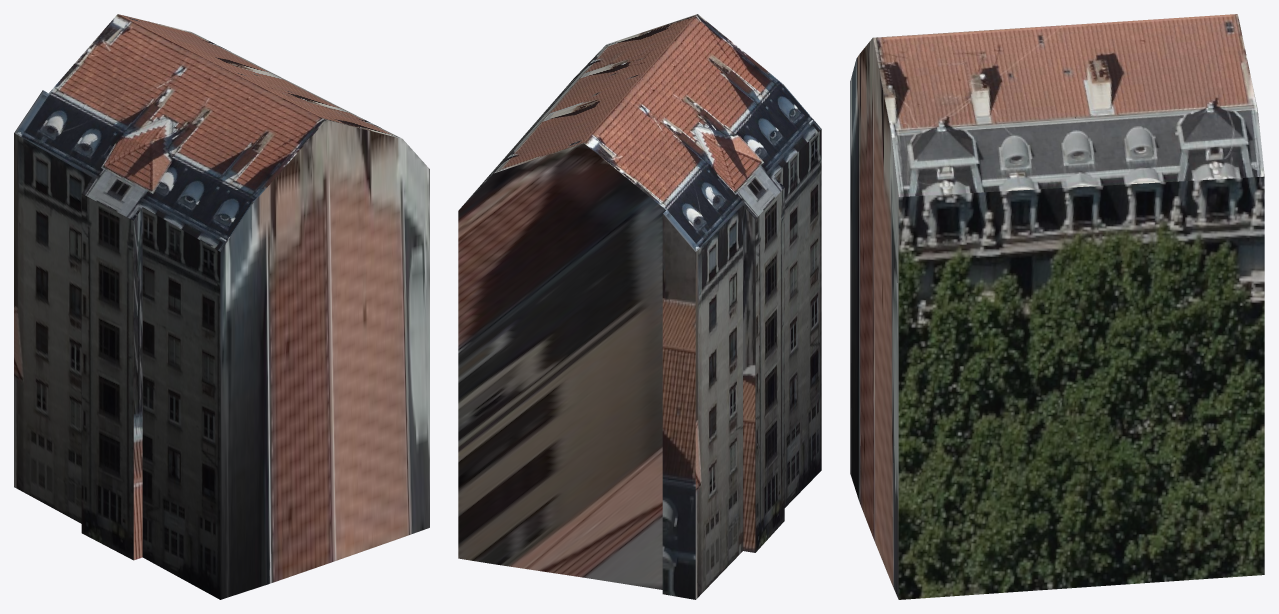
The picture shows the model from 3 angles, left to right: view 1: azimuth 30°, elevation 25°; view 2: azimuth 150°, elevation 25°; view 3: azimuth 270°, elevation 25°; orthographic projection. The views are drawn at different scales.
Parts seen in each view (by area): view 1: Z_UP; view 2: Z_UP; view 3: Z_UP.
Boxes of the visible parts, <box> form: Z_UP: <box>14,14,429,599</box>; Z_UP: <box>458,14,821,599</box>; Z_UP: <box>850,14,1264,599</box>.
Bounding box in the file's own units: 18.68 × 29.33 × 22.08.
Materials: 2 (1 with a texture image).
